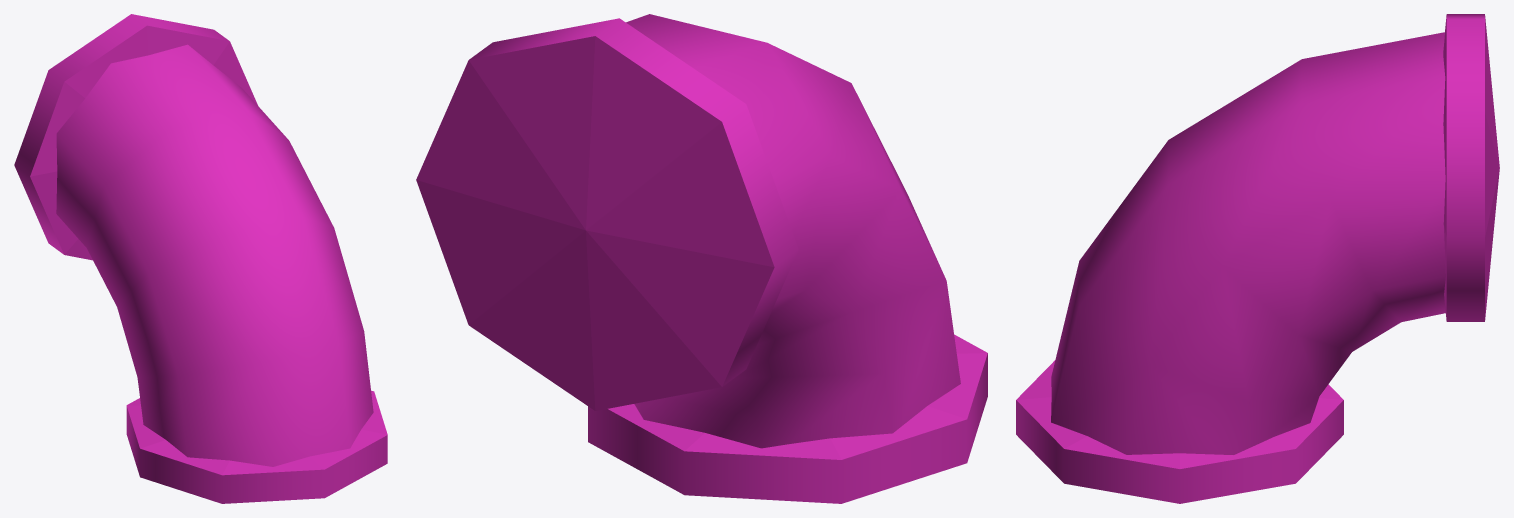
File: Pipe_04_Lod1.fbx
3 renders of one model, left to right at view 1: azimuth 30°, elevation 25°; view 2: azimuth 150°, elevation 25°; view 3: azimuth 270°, elevation 25°, orthographic. The views are drawn at different scales.
Parts seen in each view (by area): view 1: Pipe_04_Lod1; view 2: Pipe_04_Lod1; view 3: Pipe_04_Lod1.
Boxes of the visible parts, left/top/right/bottom form: Pipe_04_Lod1: left=14, top=14, right=387, bottom=503; Pipe_04_Lod1: left=416, top=14, right=987, bottom=503; Pipe_04_Lod1: left=1016, top=14, right=1499, bottom=503.
Size of the model in its own units: 313 by 452 by 462.
